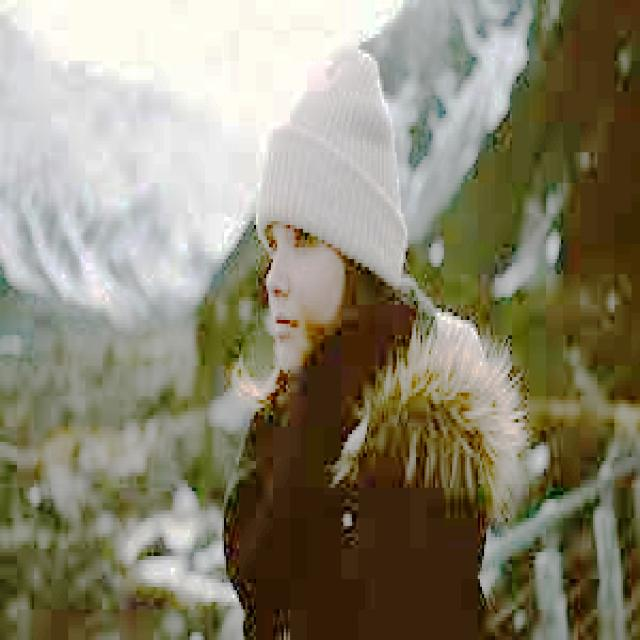TOPI: (250, 34, 408, 286)
